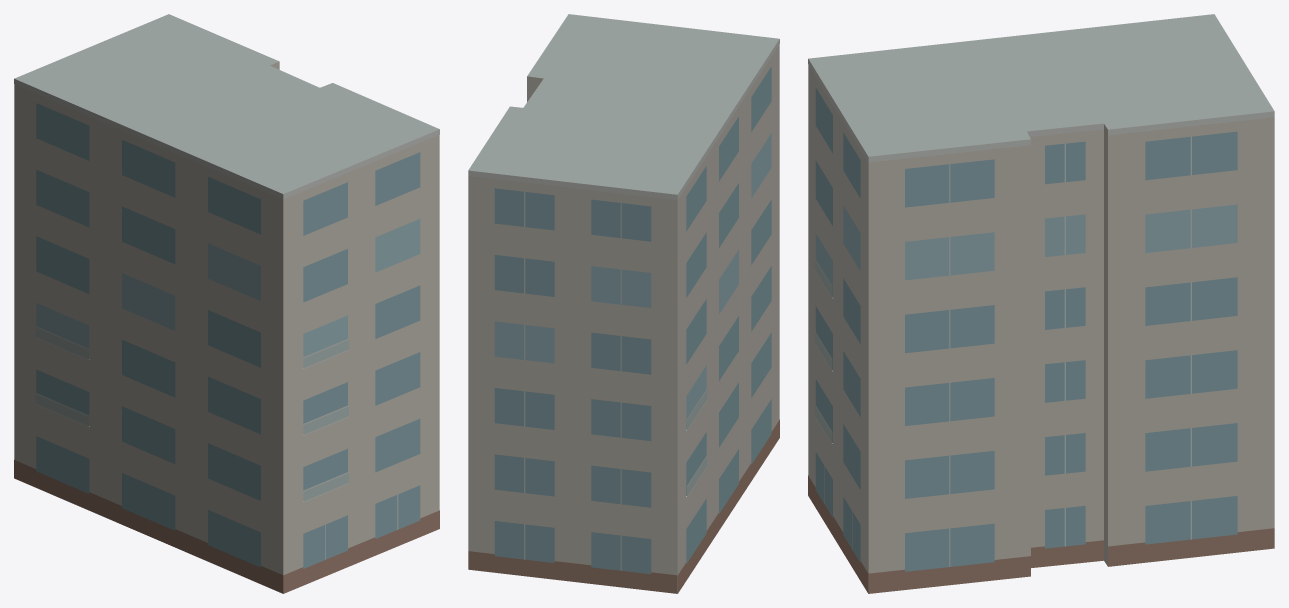
Rendered from survey-upis-33009362.glb.
3 renders of one model, left to right at view 1: azimuth 30°, elevation 25°; view 2: azimuth 150°, elevation 25°; view 3: azimuth 270°, elevation 25°, orthographic. The views are drawn at different scales.
Parts seen in each view (by area): view 1: survey-upis-33009362.tmp; view 2: survey-upis-33009362.tmp; view 3: survey-upis-33009362.tmp.
Boxes of the visible parts, left/top/right/bottom form: survey-upis-33009362.tmp: left=14, top=14, right=439, bottom=593; survey-upis-33009362.tmp: left=468, top=14, right=779, bottom=593; survey-upis-33009362.tmp: left=808, top=14, right=1274, bottom=593.
Bounding box in the file's own units: 12.83 × 18.3 × 17.71.
